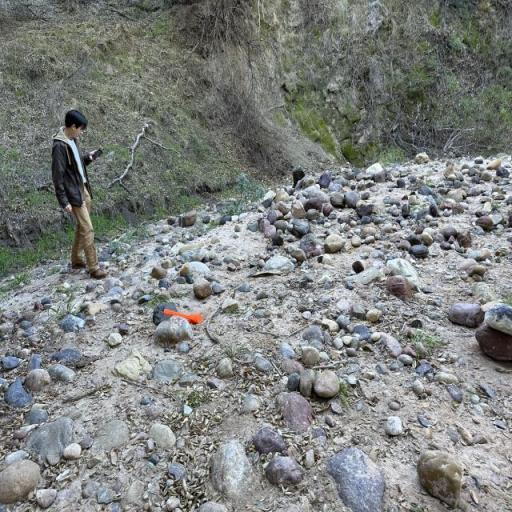mallet: (164, 309, 202, 324)
